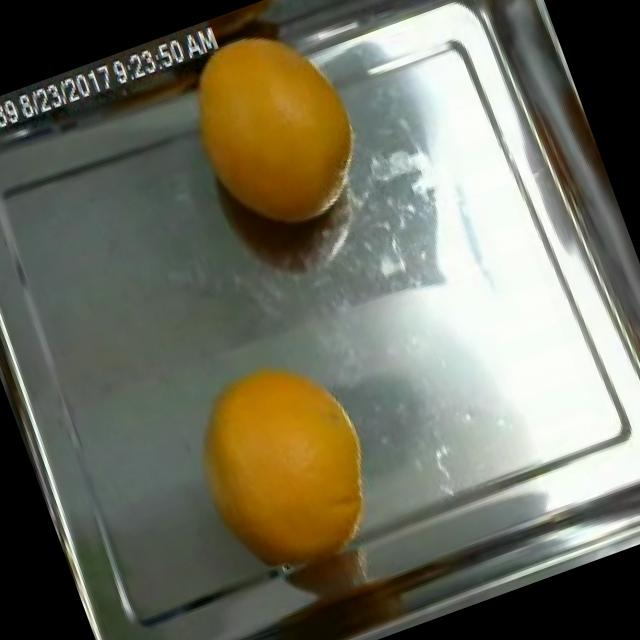Fruit: (144, 0, 393, 268)
